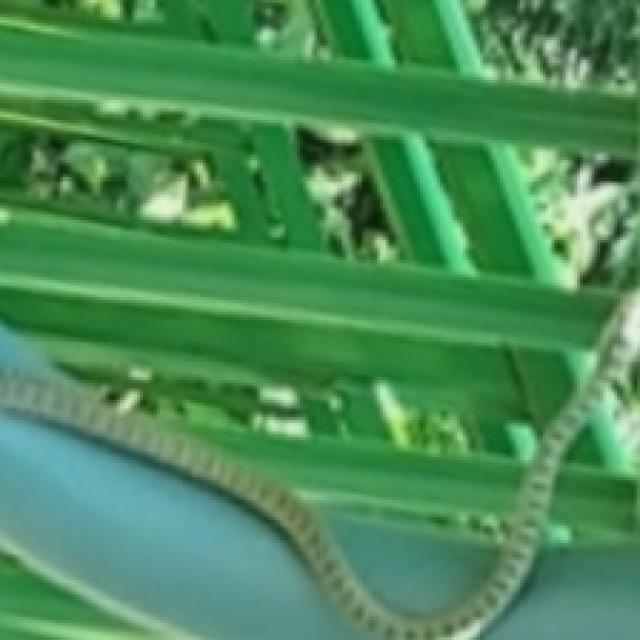paradise tree snake: (0, 0, 637, 637), (3, 549, 217, 637)
